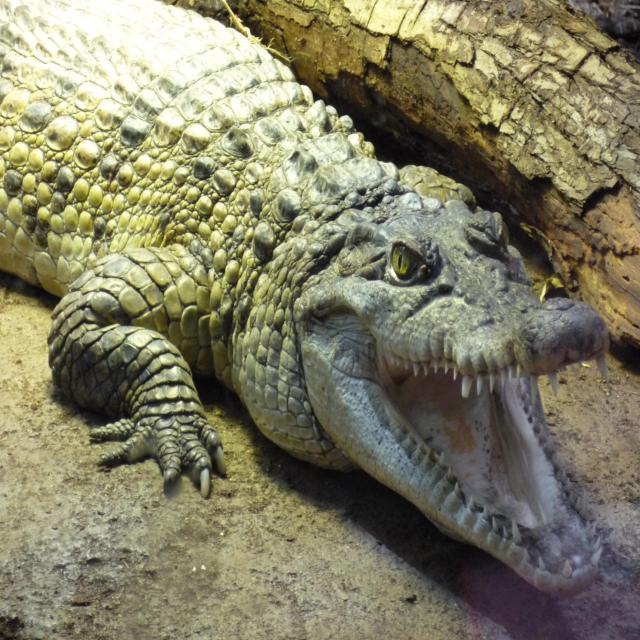crocodile: (2, 2, 610, 593)
